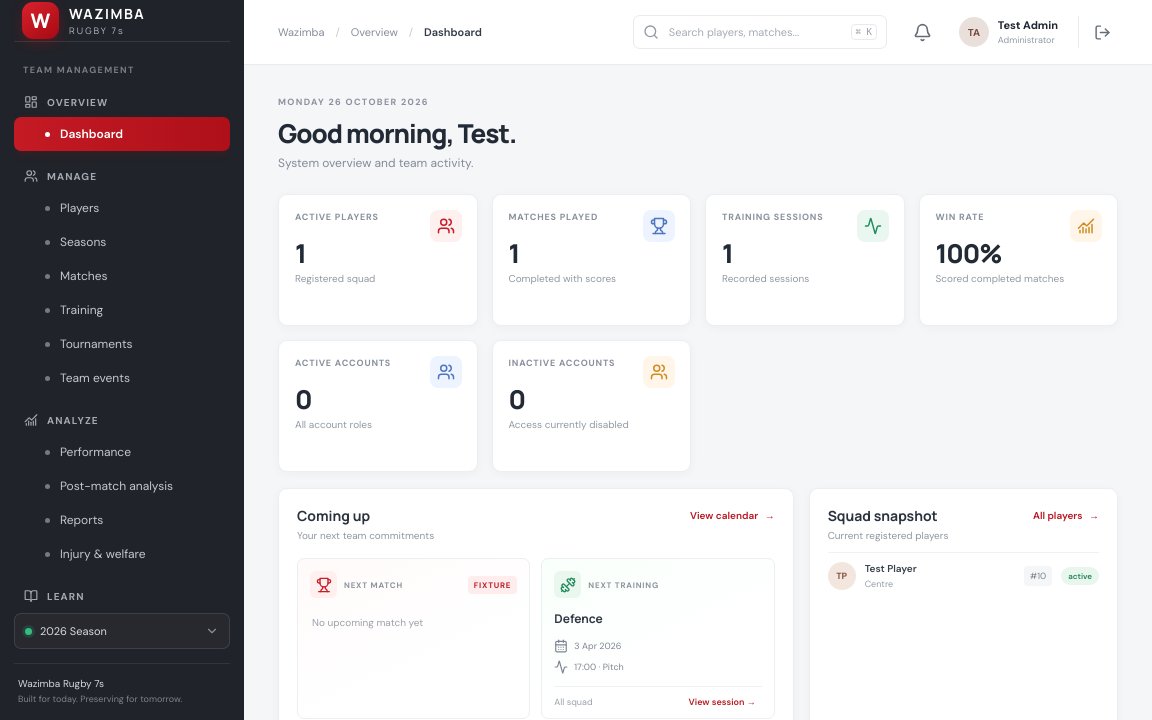
it: Wazimba app interactions › creates, edits, and deletes a player through the UI and REST API
Click the button "Players" at (122, 208), box [14,191,230,225]
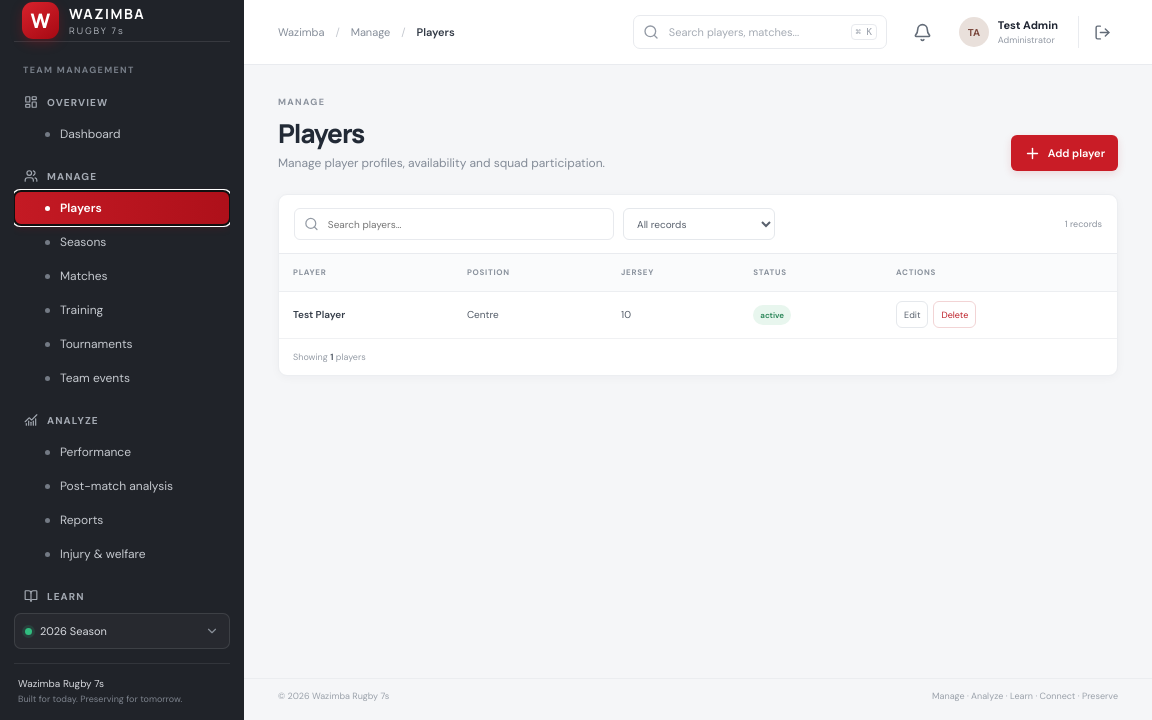
Expected: the text "Test Player" is shown, [279,291,453,338]
Click the button "Add player" at (1064, 153), box [1011,135,1118,171]
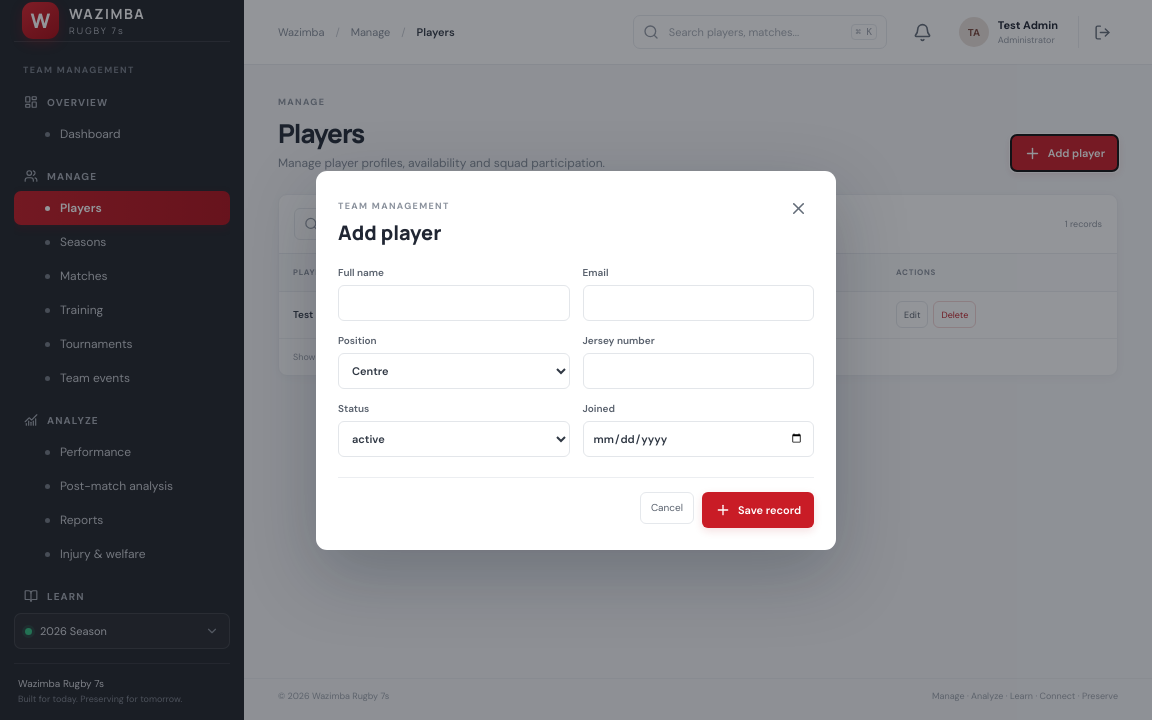
Type "New Player" into the field labelled "Full name" at (454, 302), box [338,284,570,320]
Click the button "Save record" at (758, 510), box [702,492,814,528]
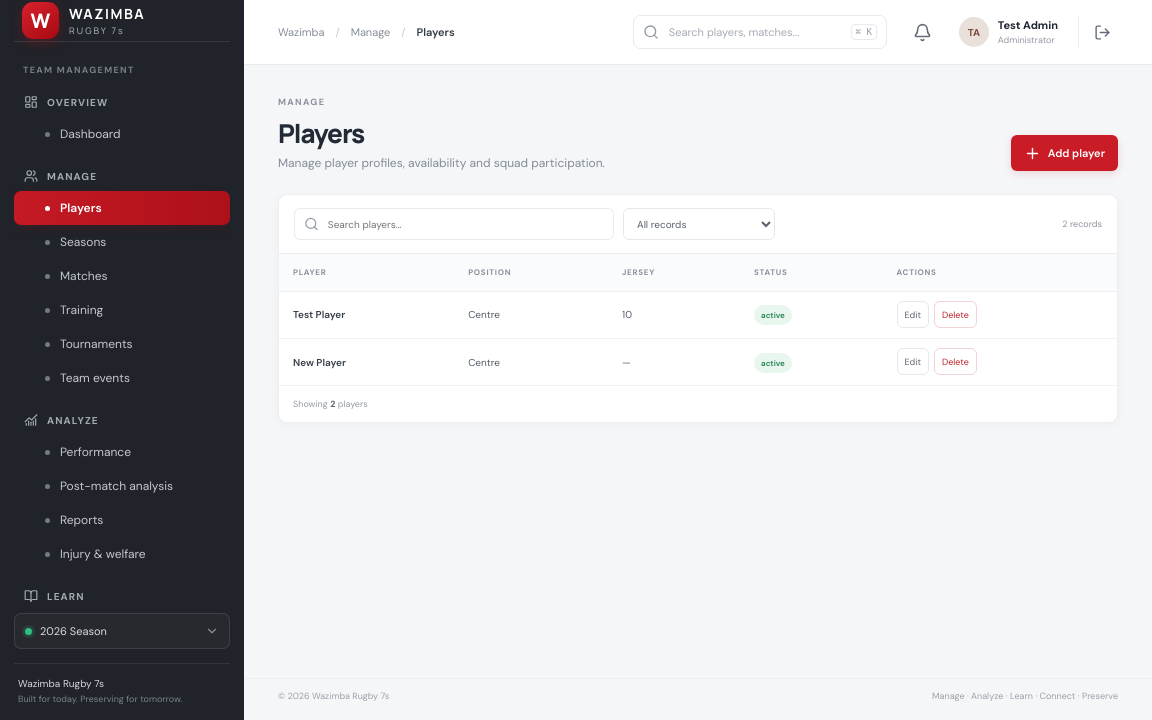
Click the button "Edit" in the row of "New Player" at (913, 362), box [896,348,929,375]
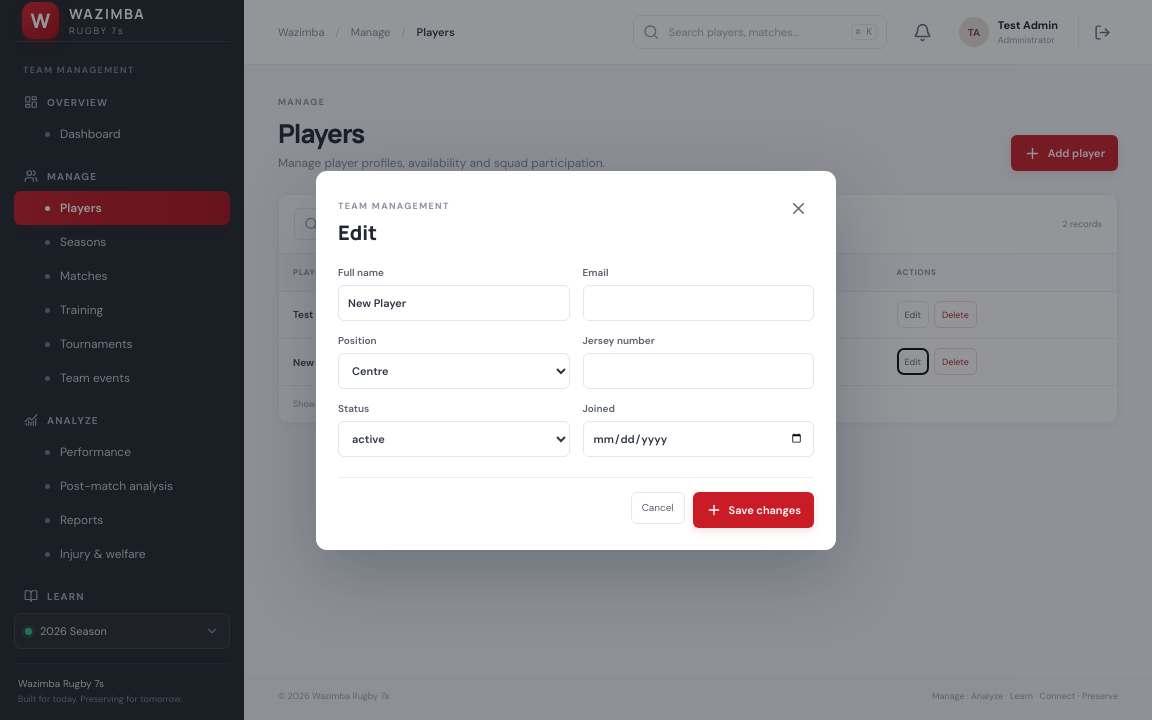
Replace the text in the field labelled "Full name" with "Updated Player" at (454, 302), box [338,284,570,320]
Click the button "Save changes" at (753, 510), box [693,492,814,528]
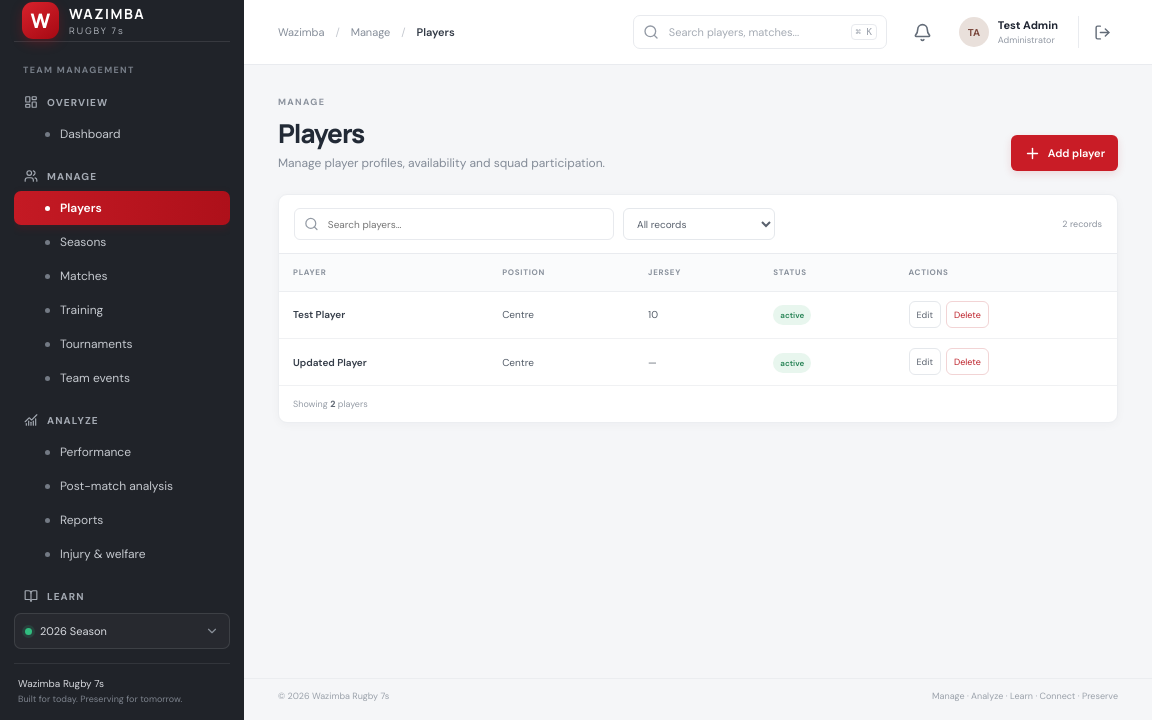
Click the button "Delete" in the row of "Updated Player" at (967, 362), box [946,348,989,375]
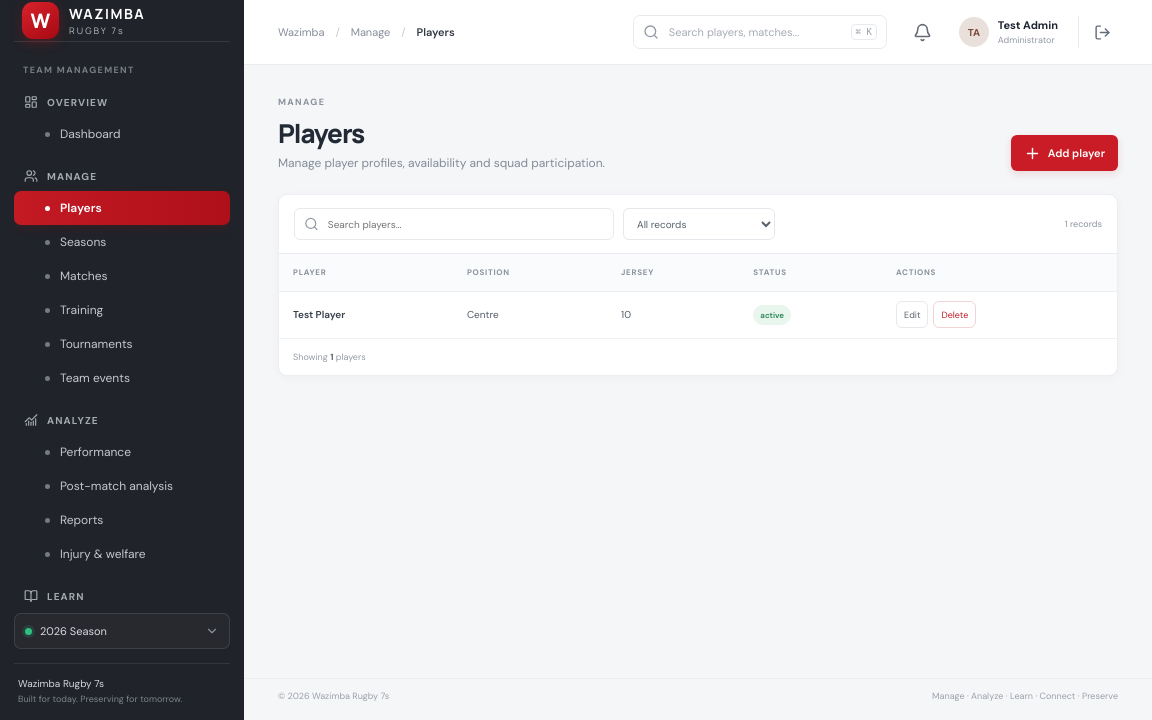
Now the text "Updated Player" is gone
